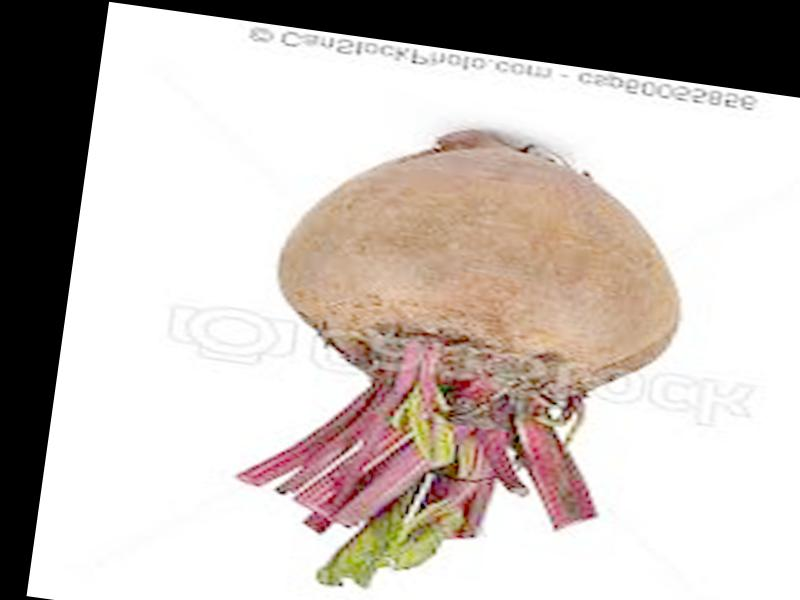Beet: (224, 105, 705, 600)
